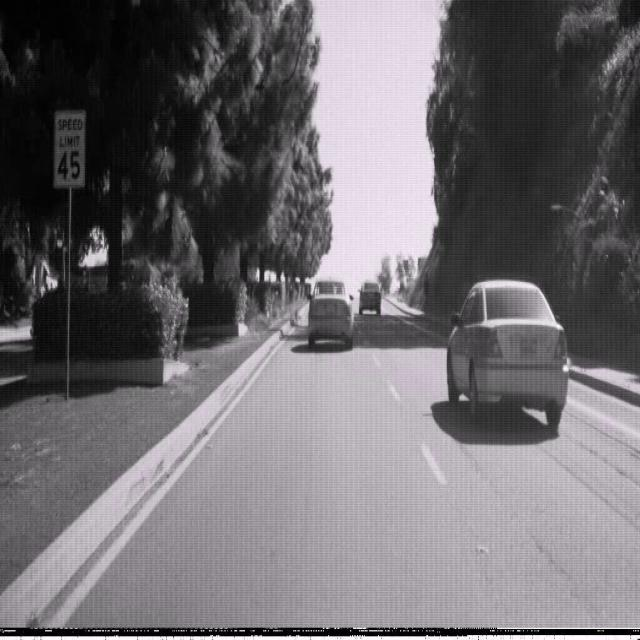speedLimit45: (53, 108, 86, 189)
